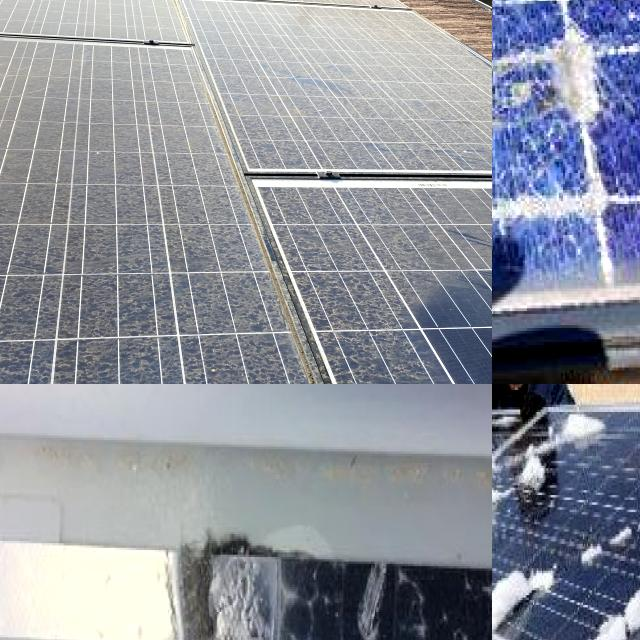dust: (254, 18, 422, 168), (0, 162, 164, 269), (264, 188, 412, 302), (0, 295, 152, 384), (176, 288, 286, 384), (94, 55, 200, 154), (0, 41, 89, 144), (170, 178, 243, 278), (430, 86, 492, 168), (438, 181, 492, 269), (348, 330, 418, 384)
hotspot: (492, 155, 640, 314), (492, 5, 640, 153)
panel: (520, 387, 608, 499), (492, 492, 557, 640), (492, 438, 545, 589), (578, 532, 640, 640), (578, 497, 640, 582), (492, 576, 567, 640)
shadow: (161, 495, 347, 640)
